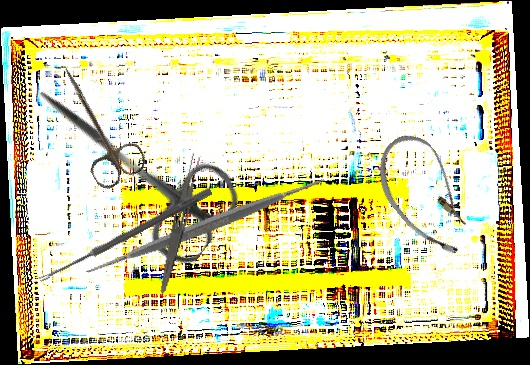Cannula: (360, 124, 494, 266)
Dressing Forceps: (156, 151, 205, 296)
Iris Scissors: (7, 53, 250, 274), (39, 56, 151, 193)
Spatula Surgical: (73, 93, 337, 358)
Surgical Spoon: (38, 186, 213, 285)
